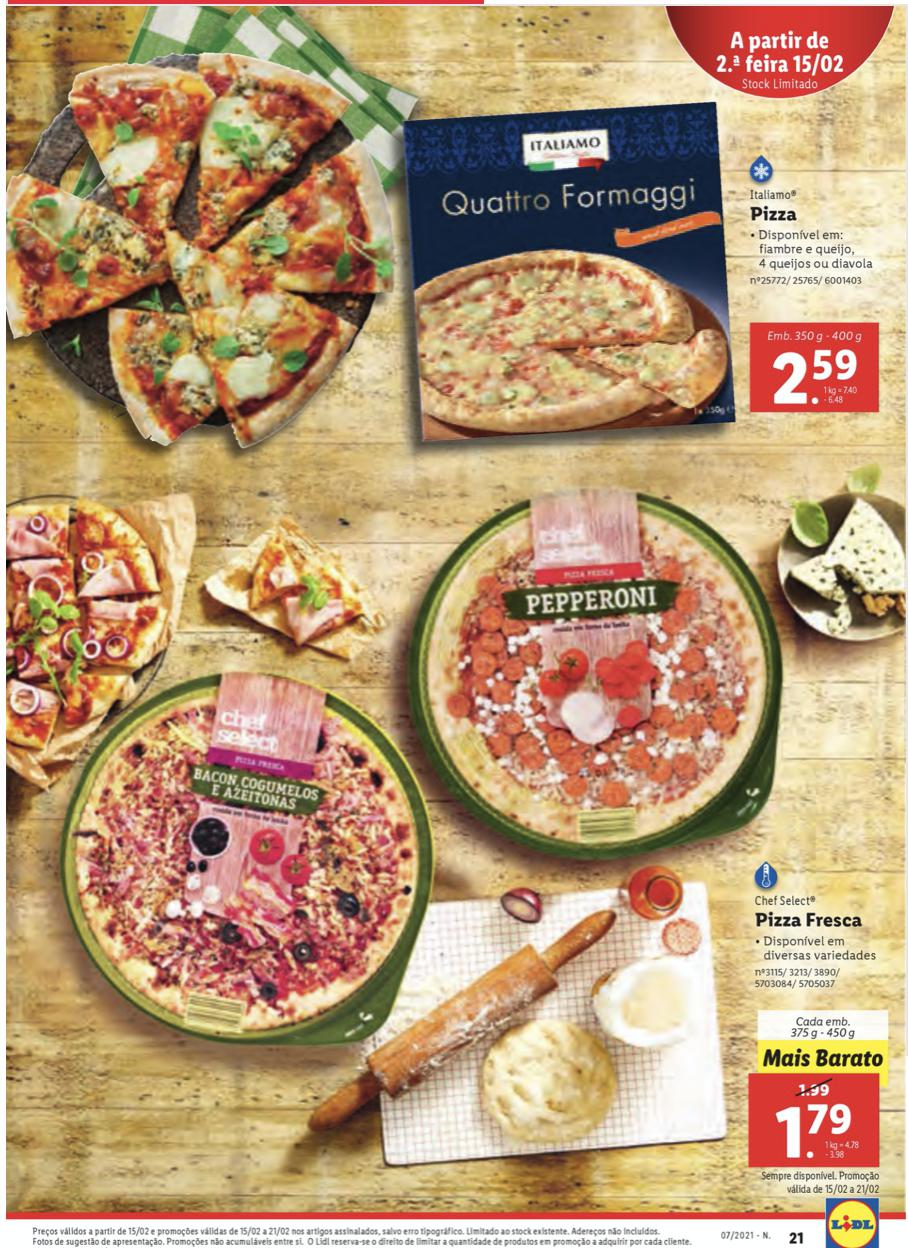name: (745, 906, 872, 935), (743, 203, 805, 228)
price: (763, 348, 874, 411), (772, 1099, 862, 1171)
product: (357, 874, 902, 1189), (395, 100, 894, 439)
